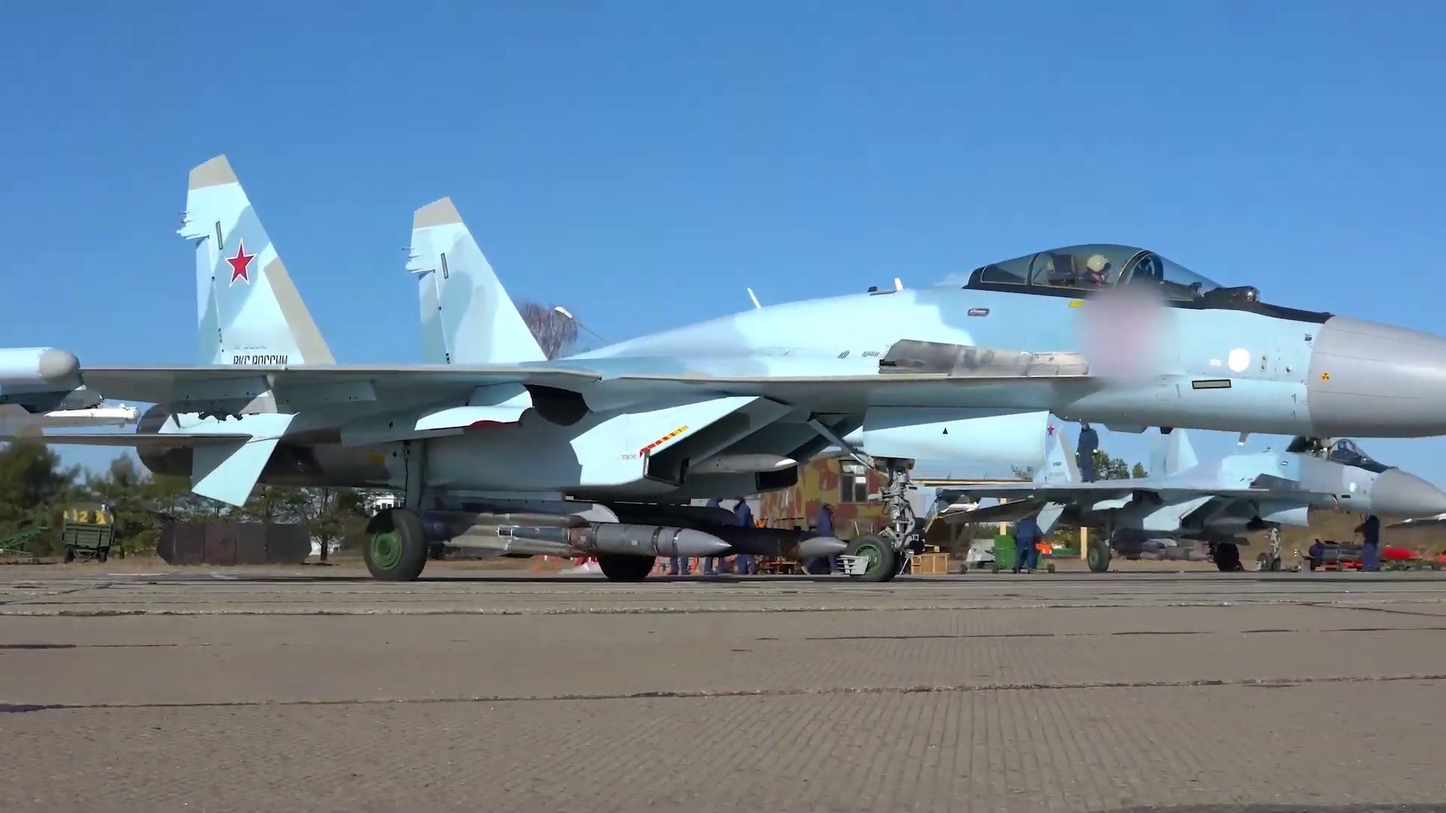Su35: (2, 154, 1446, 582), (912, 420, 1440, 575)
